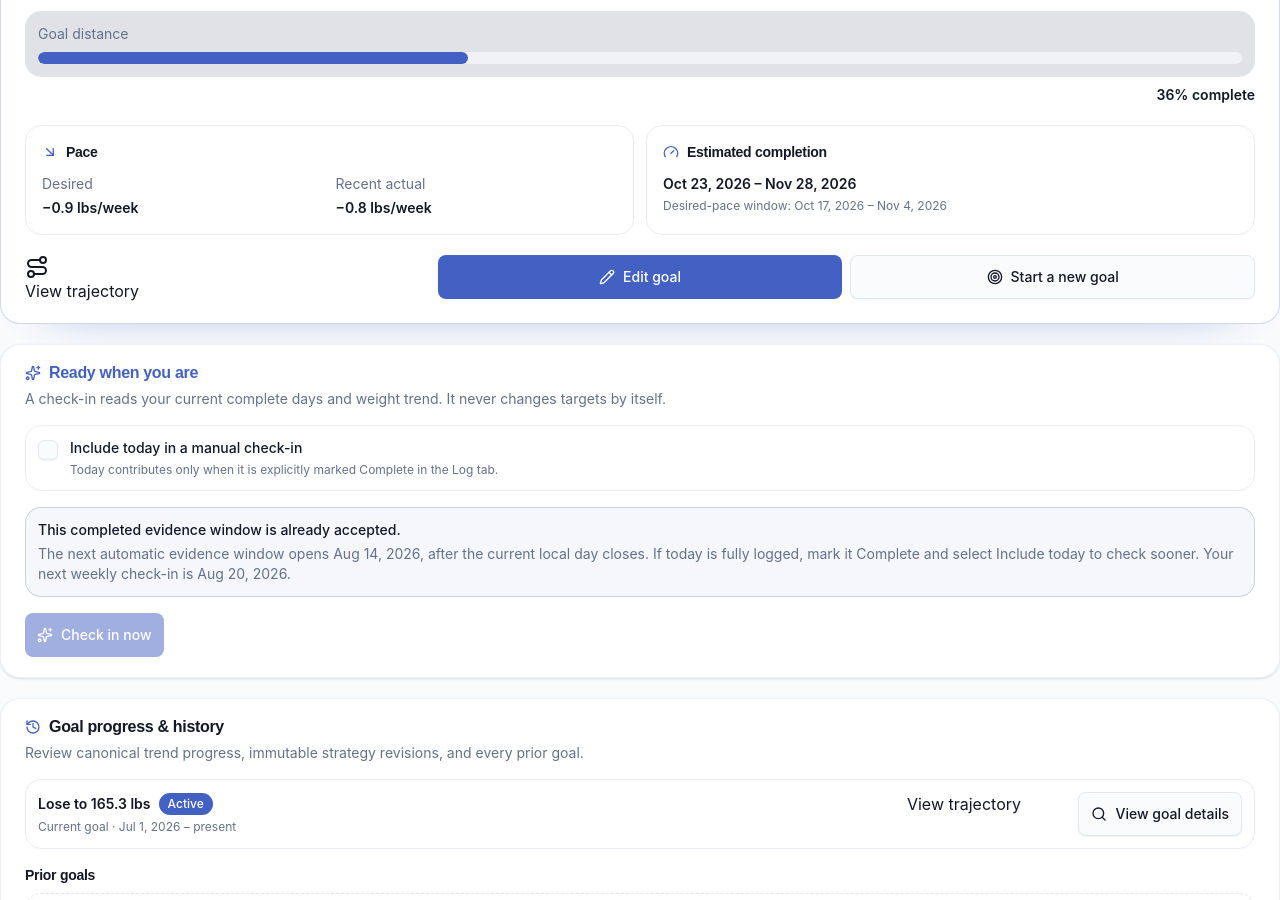
Scenario: AdaptiveCoach › explains and disables a consumed evidence window until today is complete
The width and height of the screenshot is (1280, 900).
(page scrolled)
Expected: the text "This completed evidence window is already accepted." is shown, [38, 521, 401, 538]
Expected: the text "next automatic evidence window opens Aug 14, 2026" is shown, [38, 544, 1242, 584]
Click the checkbox named "include today": (48, 450) [38, 440, 58, 460]
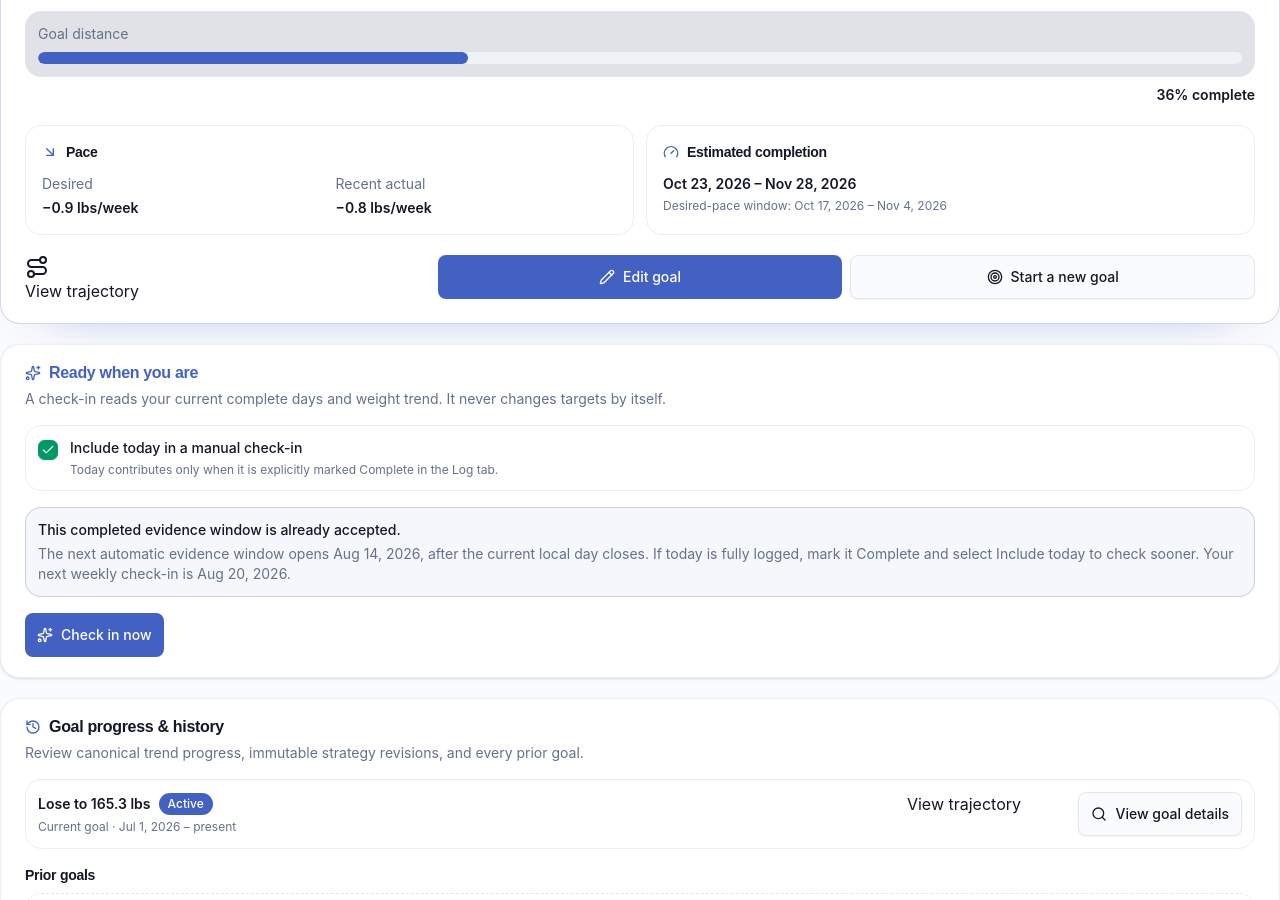
Result: the button "Check in now" is enabled at [25, 613, 164, 657]
